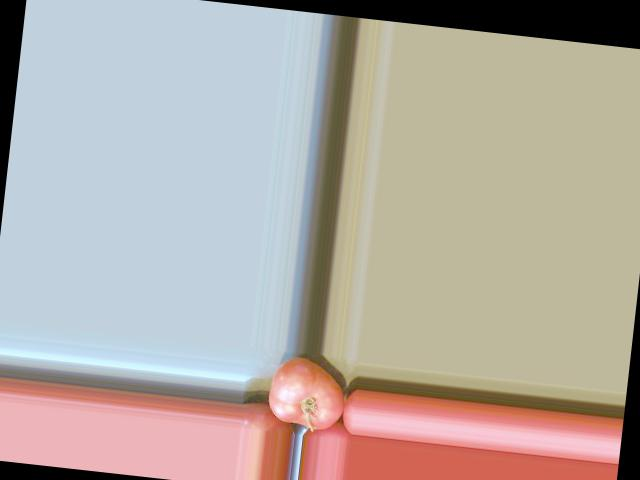tomato: (266, 354, 348, 431)
